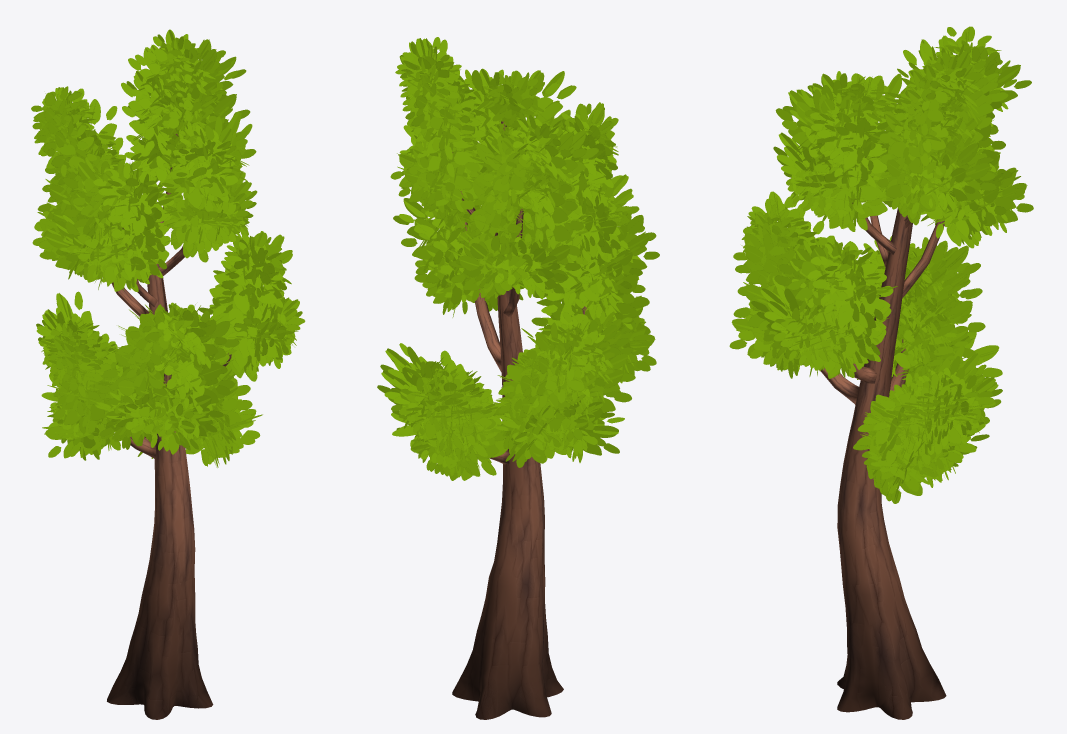
Rendered from CommonTree_3.glb.
The picture shows the model from 3 angles, left to right: view 1: azimuth 30°, elevation 25°; view 2: azimuth 150°, elevation 25°; view 3: azimuth 270°, elevation 25°; orthographic projection. The views are drawn at different scales.
Size of the model in its own units: 4.06 by 9.43 by 4.24.
Materials: 2 (2 with a texture image).
